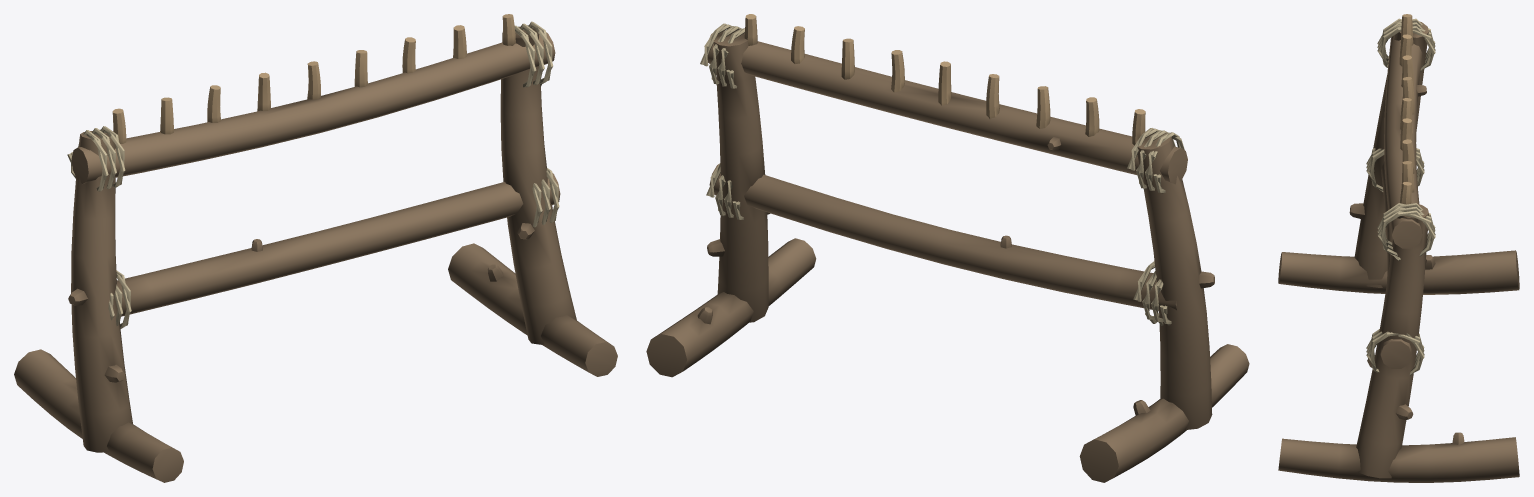
File: stack_sample_rack.glb
The picture shows the model from 3 angles, left to right: view 1: azimuth 30°, elevation 25°; view 2: azimuth 150°, elevation 25°; view 3: azimuth 270°, elevation 25°; orthographic projection. The views are drawn at different scales.
Visible parts, largest first — view 1: stack_sample_rack; view 2: stack_sample_rack; view 3: stack_sample_rack.
Part boxes in pixels (x1,y1,x2,y2): stack_sample_rack: (14,14,617,482); stack_sample_rack: (646,14,1249,482); stack_sample_rack: (1278,14,1519,482).
Bounding box in the file's own units: 1.85 × 1.15 × 0.8737.
